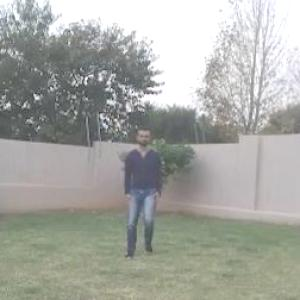follow: (123, 123, 162, 257)
